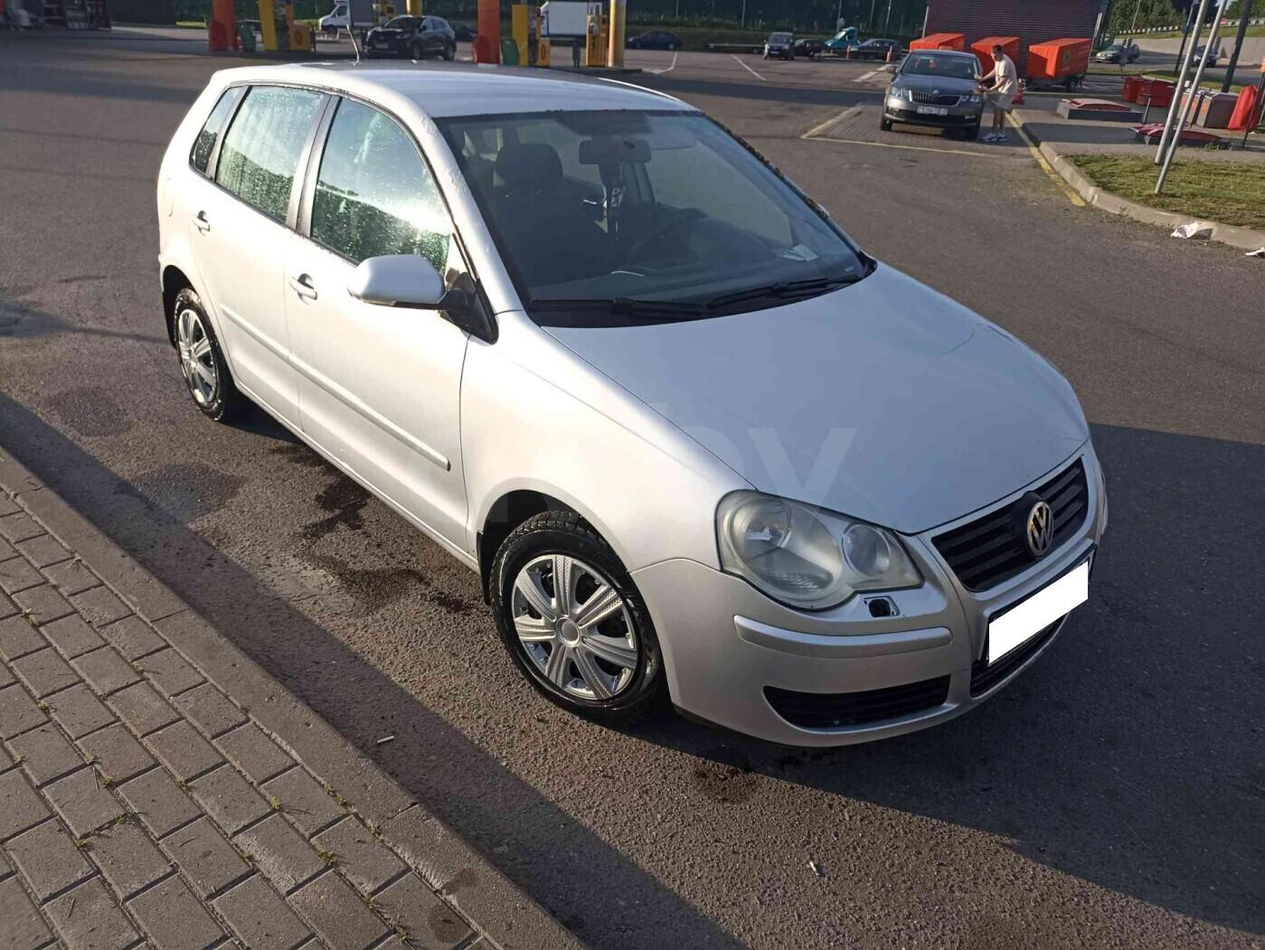Polo_2005-2009: (149, 64, 1124, 770)
